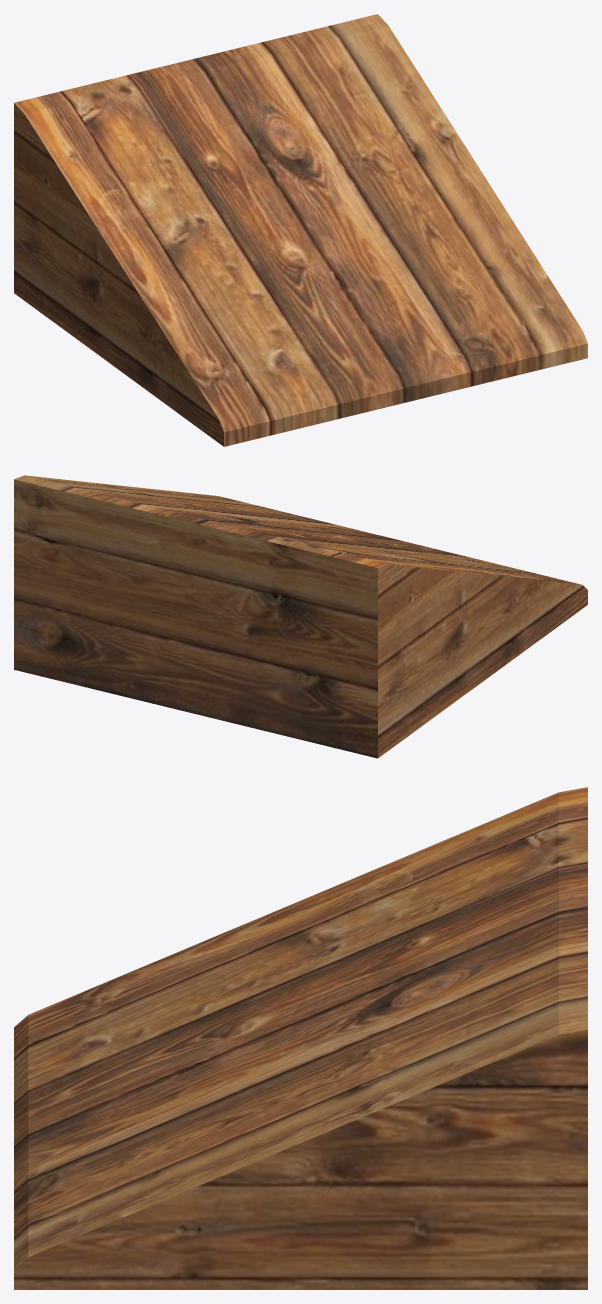
File: ModularRoof1.fbx
The picture shows the model from 3 angles, top to bottom: view 1: azimuth 30°, elevation 25°; view 2: azimuth 150°, elevation 25°; view 3: azimuth 270°, elevation 25°; orthographic projection. The views are drawn at different scales.
Parts seen in each view (by area): view 1: Roof1; view 2: Roof1; view 3: Roof1.
Boxes of the visible parts, <box> form: Roof1: <box>14,14,587,446</box>; Roof1: <box>14,475,587,758</box>; Roof1: <box>14,787,587,1289</box>.
Size of the model in its own units: 400 by 200 by 400.
